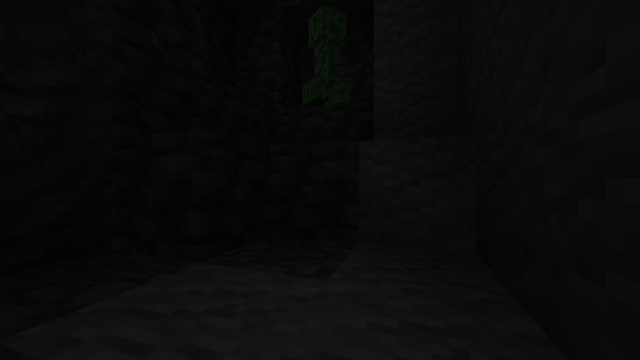creepers: (305, 0, 346, 108)
